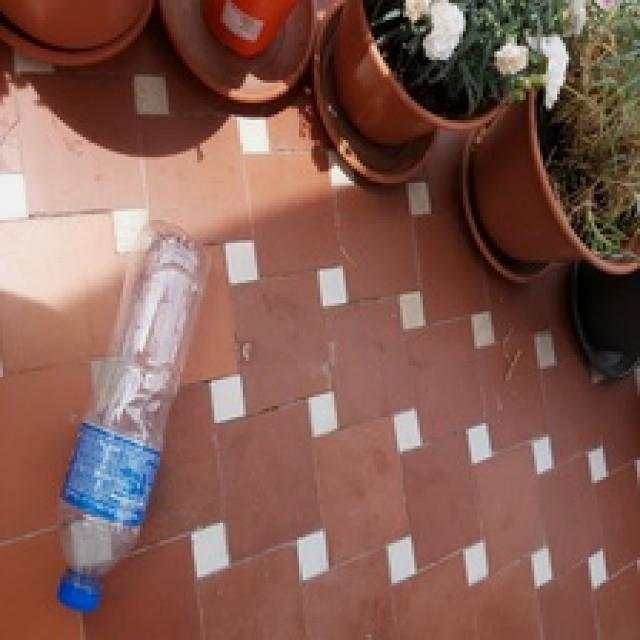bottle: (46, 216, 219, 621)
